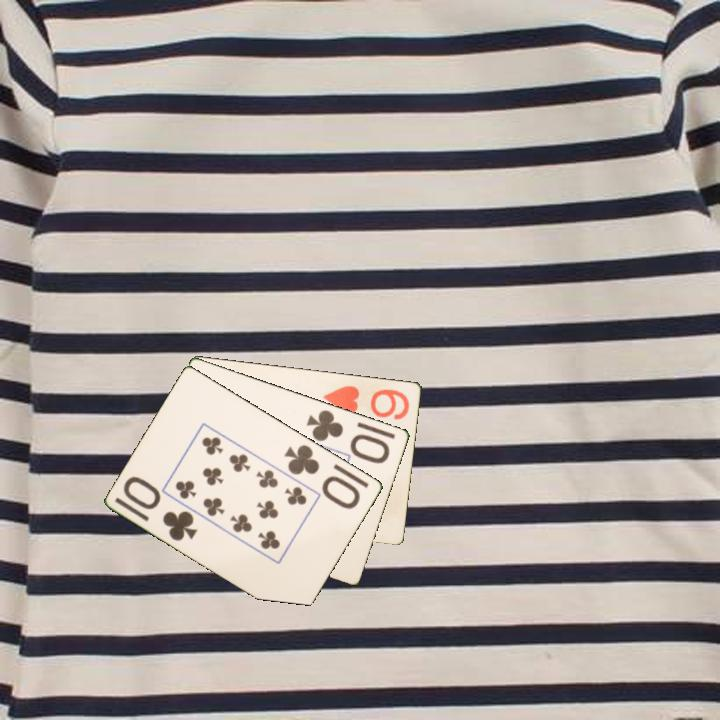10c: (281, 441, 364, 512), (120, 473, 201, 544), (303, 406, 393, 466)
6h: (319, 381, 413, 422)
